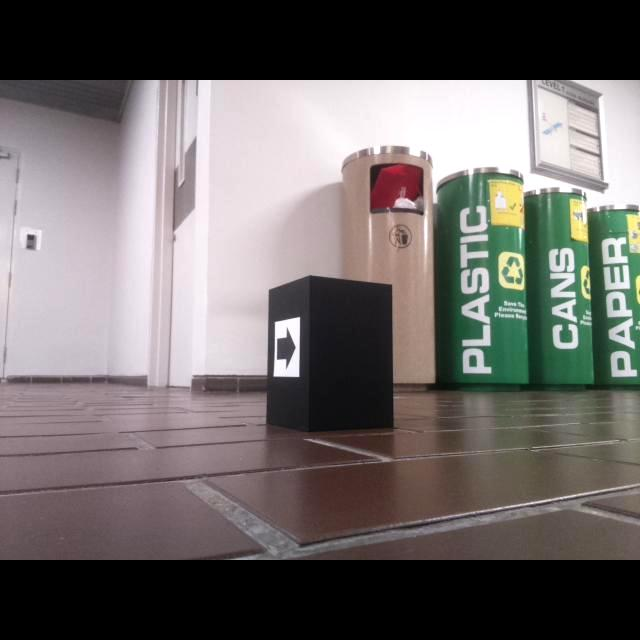RIGHT: (276, 328, 296, 369)
